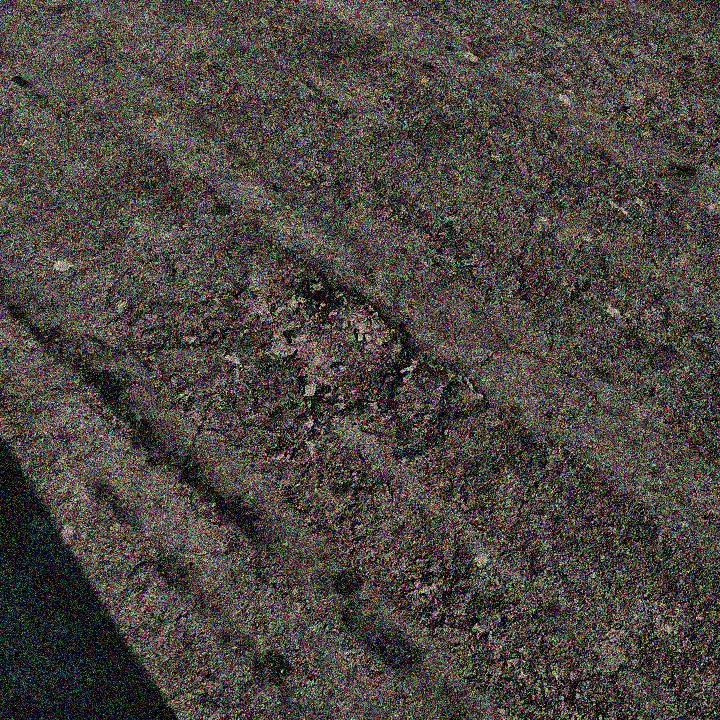pothole: (260, 278, 422, 420)
